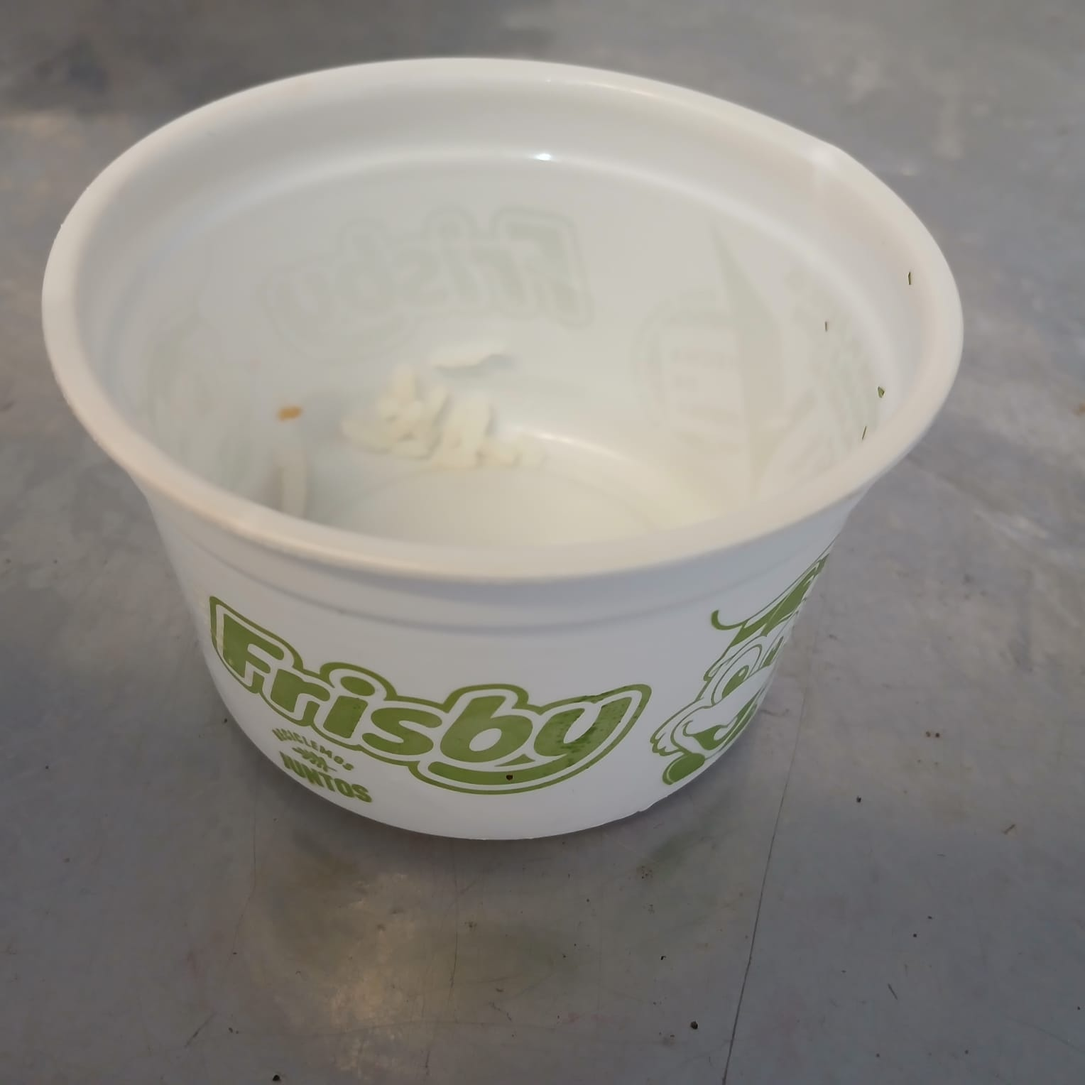Plastico: (44, 58, 964, 841)
